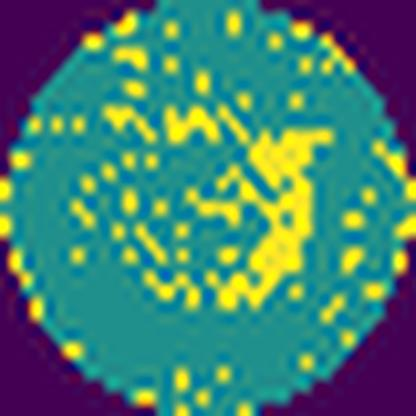Donut: (72, 85, 333, 319)
